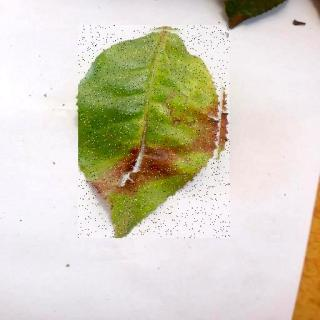Algal Leaf: (80, 26, 232, 239)
